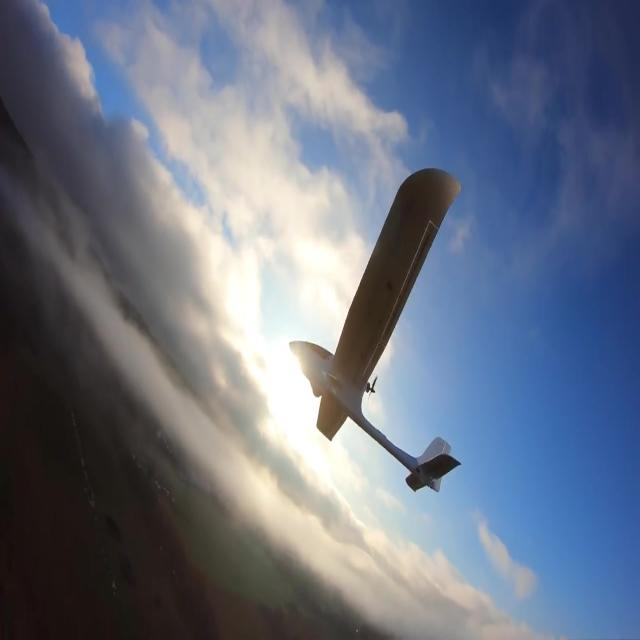iha: (288, 163, 462, 486)
